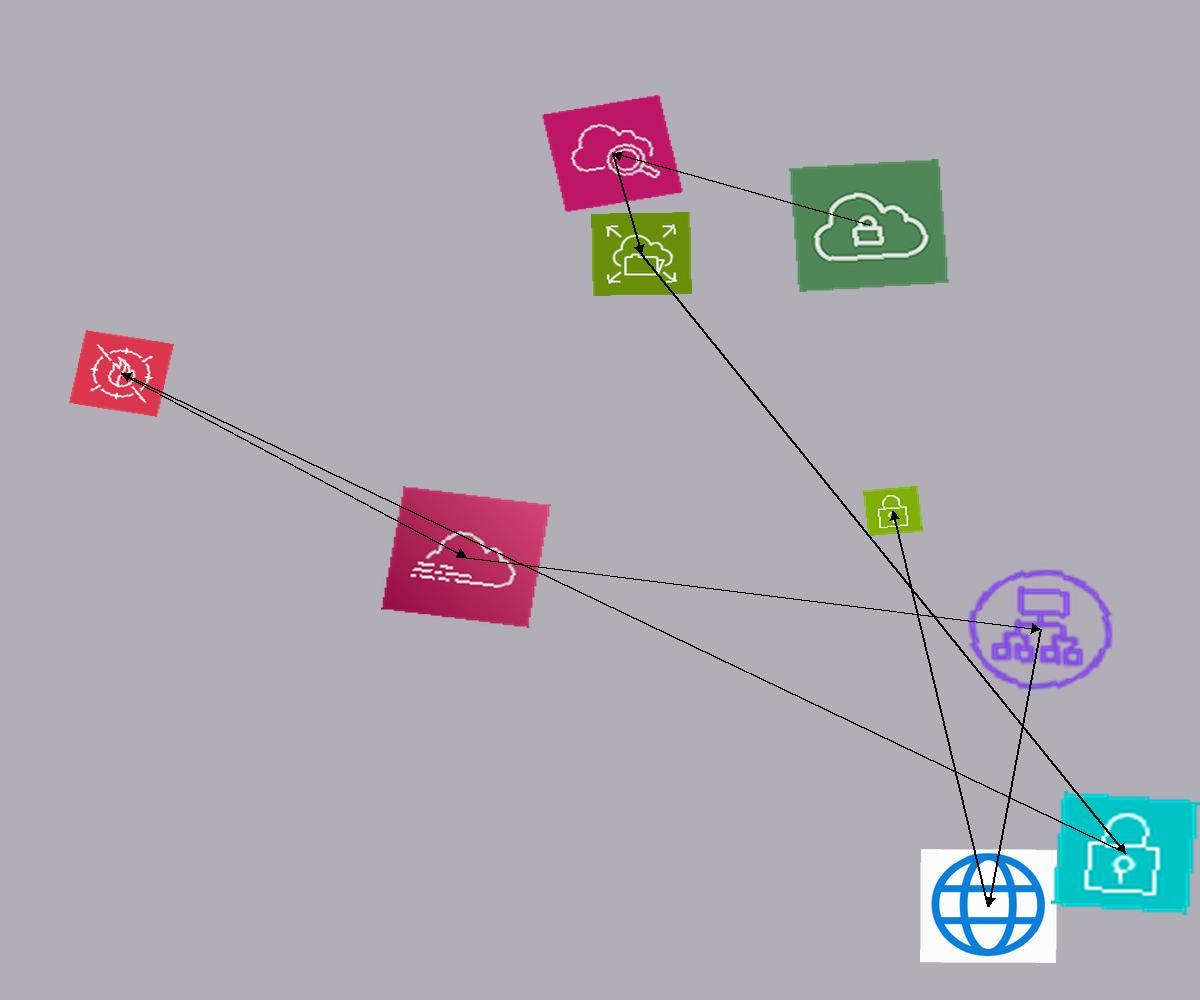AWS-CloudTrail: (381, 486, 551, 628)
AWS-CloudWatch: (541, 94, 684, 213)
AWS-EFS: (591, 212, 692, 296)
AWS-Private-subnet: (1051, 791, 1200, 915)
AWS-Private_vpc: (789, 159, 949, 292)
AWS-Public-subnet: (863, 486, 923, 536)
AWS-Res_Elastic-Load-Balancing_Application-Load-Balancer: (956, 559, 1125, 700)
AWS-WAF: (69, 330, 174, 417)
Azure_http: (920, 849, 1057, 963)
